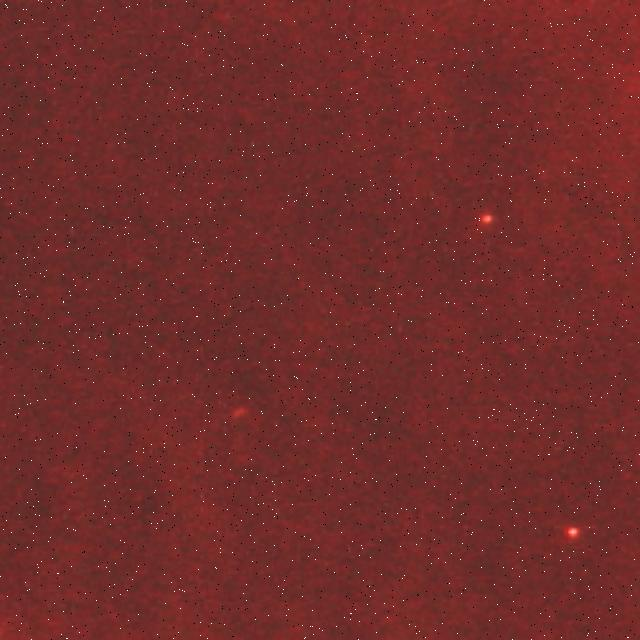Fragment: (480, 210, 494, 226)
